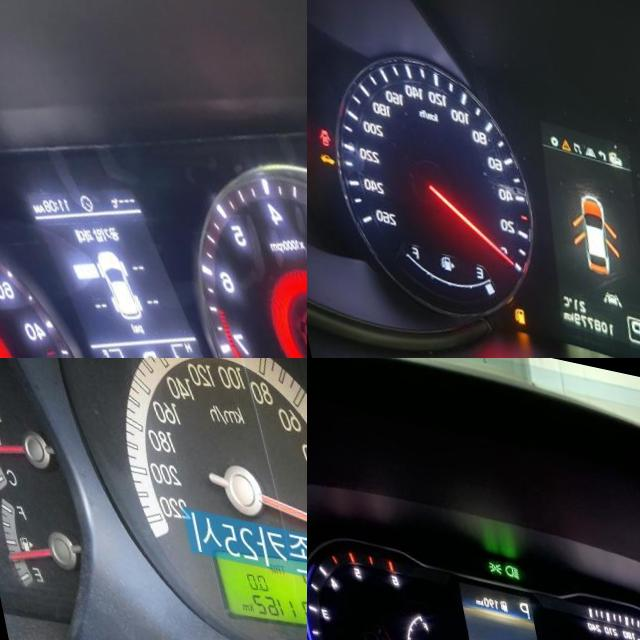Doors: (307, 124, 321, 144)
Low beam: (496, 548, 512, 565)
Low fuel level: (496, 295, 510, 315)
SideLamp: (479, 547, 494, 560)
